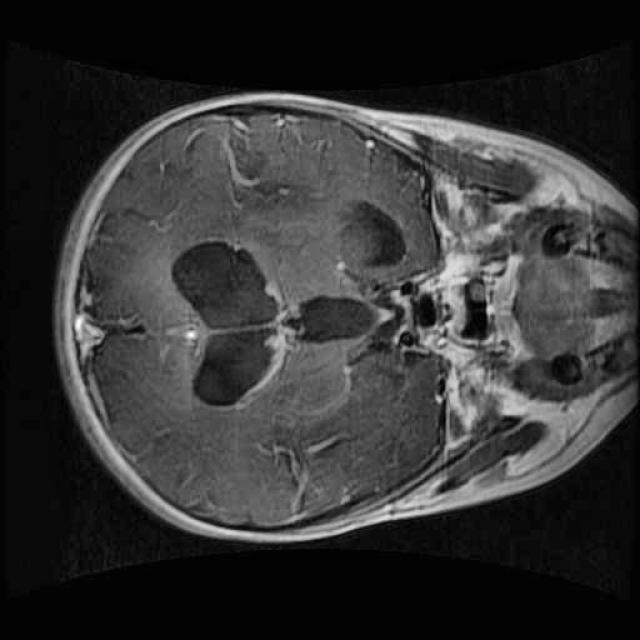Non-Tumor: (314, 176, 428, 292)
